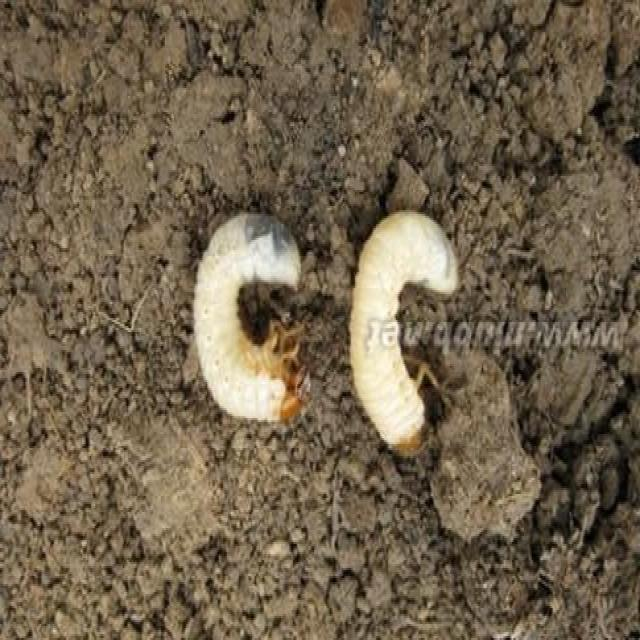grub: (344, 221, 456, 449), (195, 212, 308, 434)
